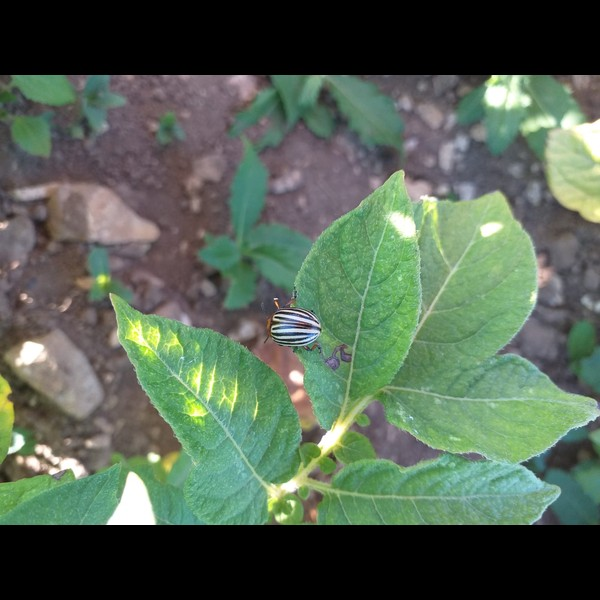hrosc: (260, 296, 323, 355)
